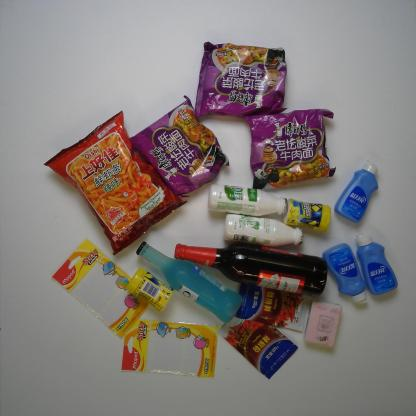Alcohol: (135, 240, 243, 323), (174, 242, 328, 296)
Gum: (124, 266, 174, 311), (284, 198, 332, 234)
Instant Noodles: (127, 93, 231, 198), (241, 108, 338, 192), (193, 40, 289, 122)
Milk: (207, 183, 290, 218), (224, 212, 304, 248)
Personal Hygiene: (333, 159, 381, 224), (322, 242, 368, 306), (354, 232, 399, 296)
Puffed Food: (42, 108, 190, 259)
Seasoner: (218, 314, 300, 380), (232, 277, 311, 333)
Stationery: (51, 238, 151, 341), (121, 316, 219, 378)
Tissue: (303, 300, 343, 350)
